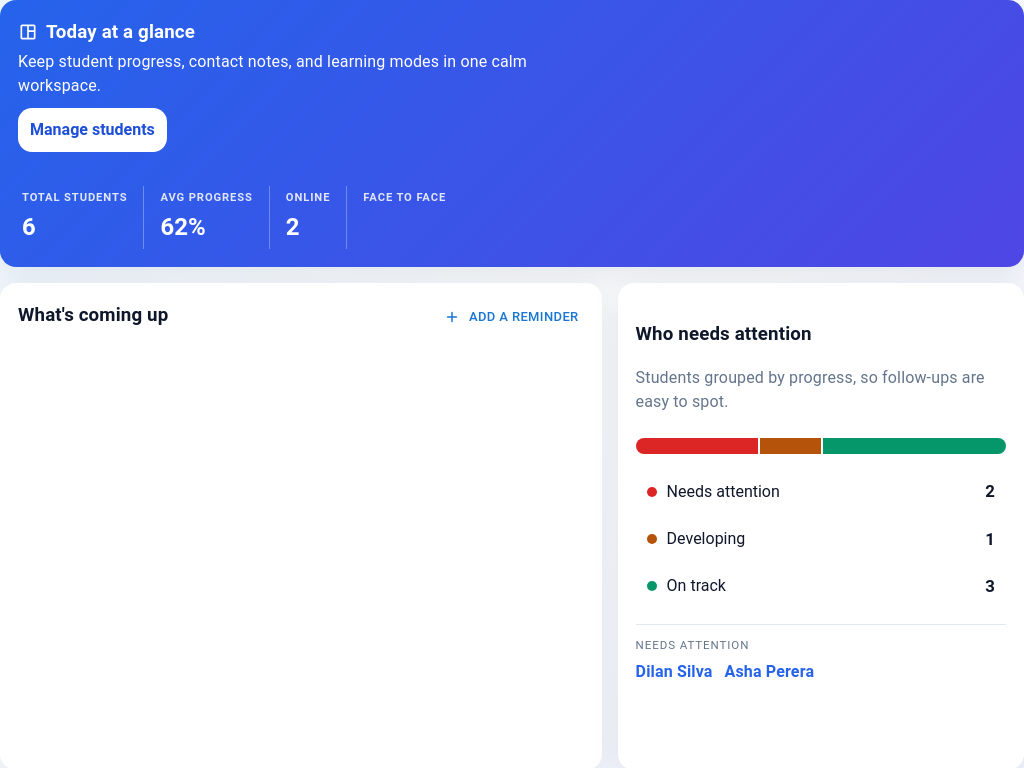
Scenario: DashboardView › pins a band on tap (mobile) and a second tap clears it
The width and height of the screenshot is (1024, 768).
Click the button "On track 3".
click(696, 586)  # box [636, 565, 1006, 608]
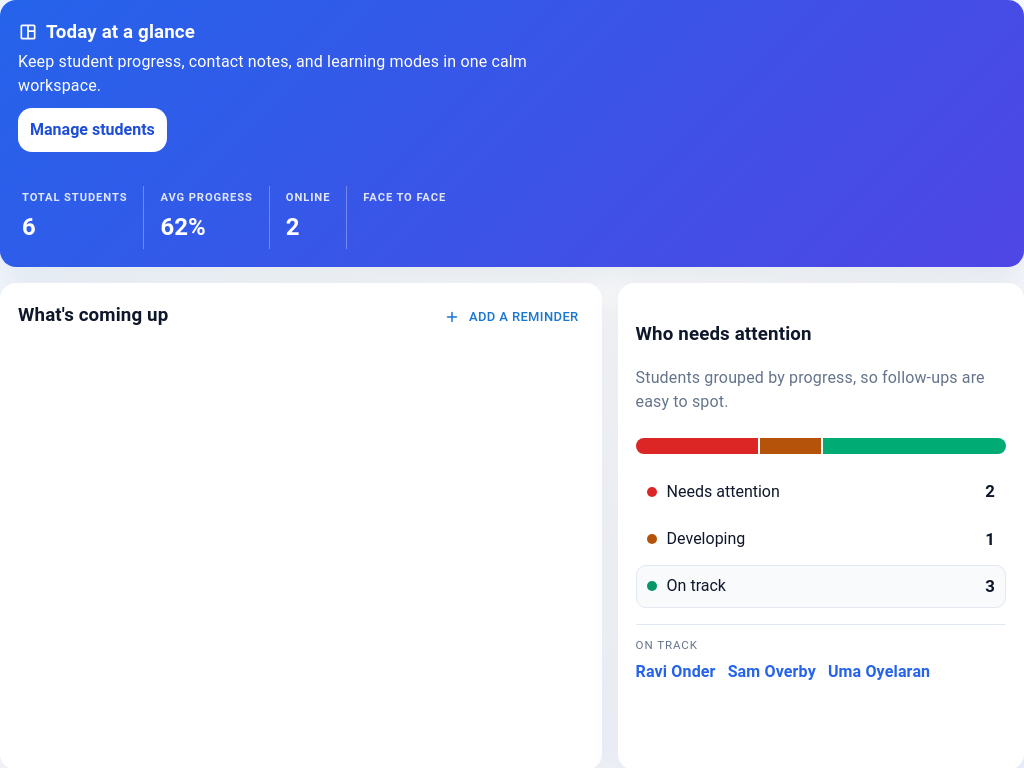
Result: the link "Uma Oyelaran" is shown at [828, 660, 930, 684]
Click the button "On track 3".
click(696, 586)  # box [636, 565, 1006, 608]
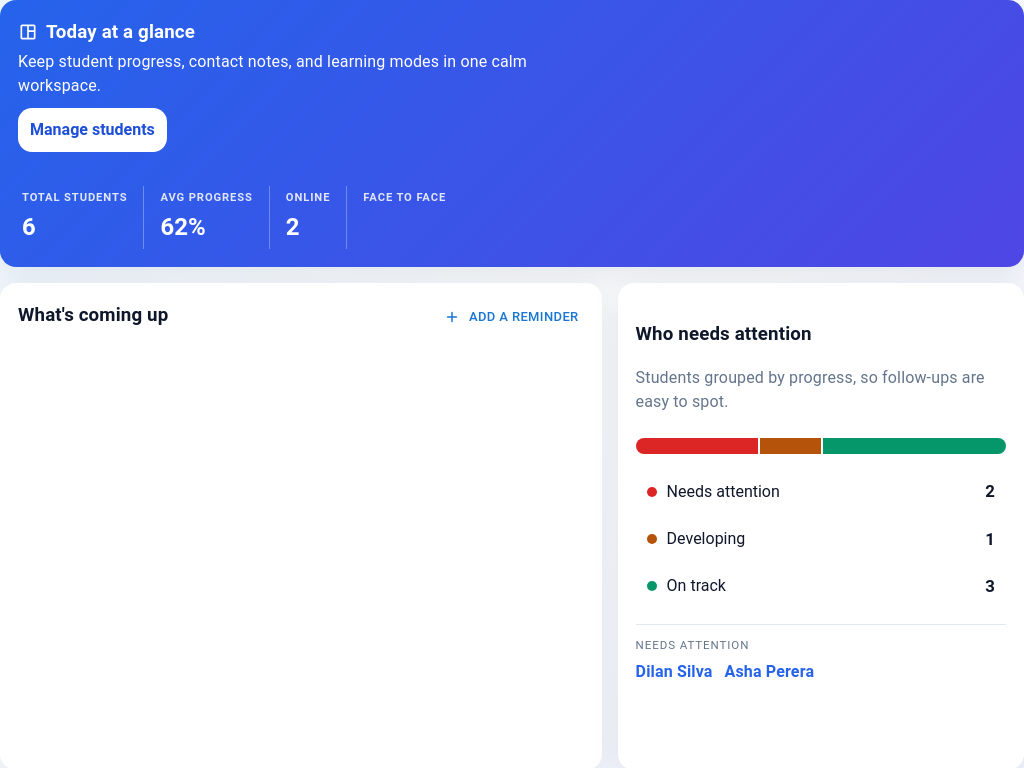
Result: the link "Uma Oyelaran" is gone
# A bar segment tap pins the same way.
Click the button named "on track: ravi onder".
click(914, 446)  # box [823, 438, 1006, 454]
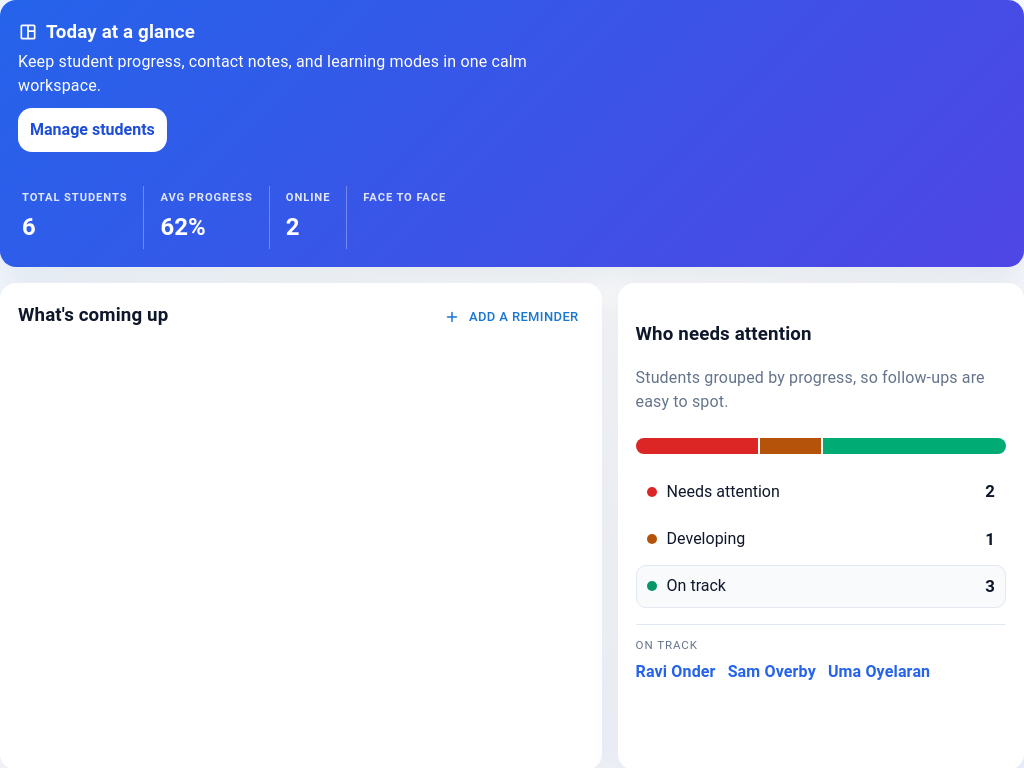
Result: the link "Sam Overby" is shown at [728, 660, 816, 684]
